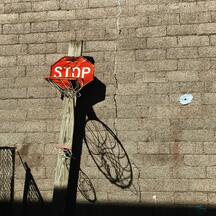Circle: (49, 55, 94, 89)
